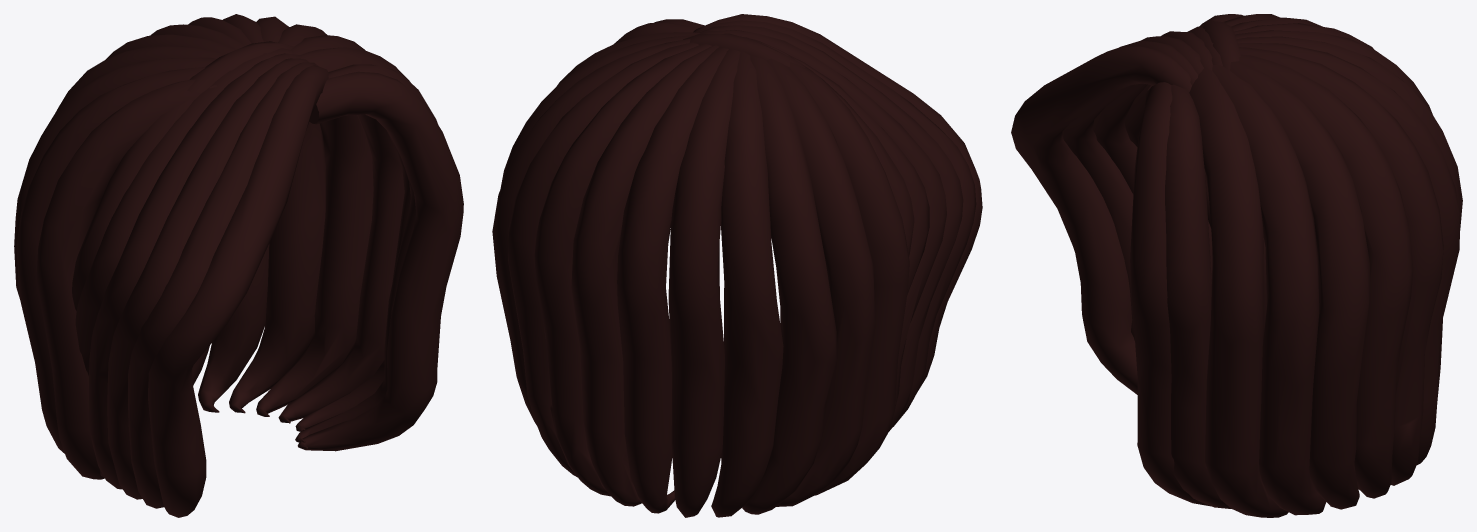
The model's file is hair-10-9137c7fe.glb.
The picture shows the model from 3 angles, left to right: view 1: azimuth 30°, elevation 25°; view 2: azimuth 150°, elevation 25°; view 3: azimuth 270°, elevation 25°; orthographic projection. The views are drawn at different scales.
Visible parts, largest first — view 1: hair_10.001; view 2: hair_10.001; view 3: hair_10.001.
Boxes of the visible parts, bbox=[...] form: hair_10.001: bbox=[14, 14, 463, 517]; hair_10.001: bbox=[492, 14, 982, 517]; hair_10.001: bbox=[1011, 14, 1462, 517].
Bounding box in the file's own units: 2.27 × 2.32 × 2.2.
